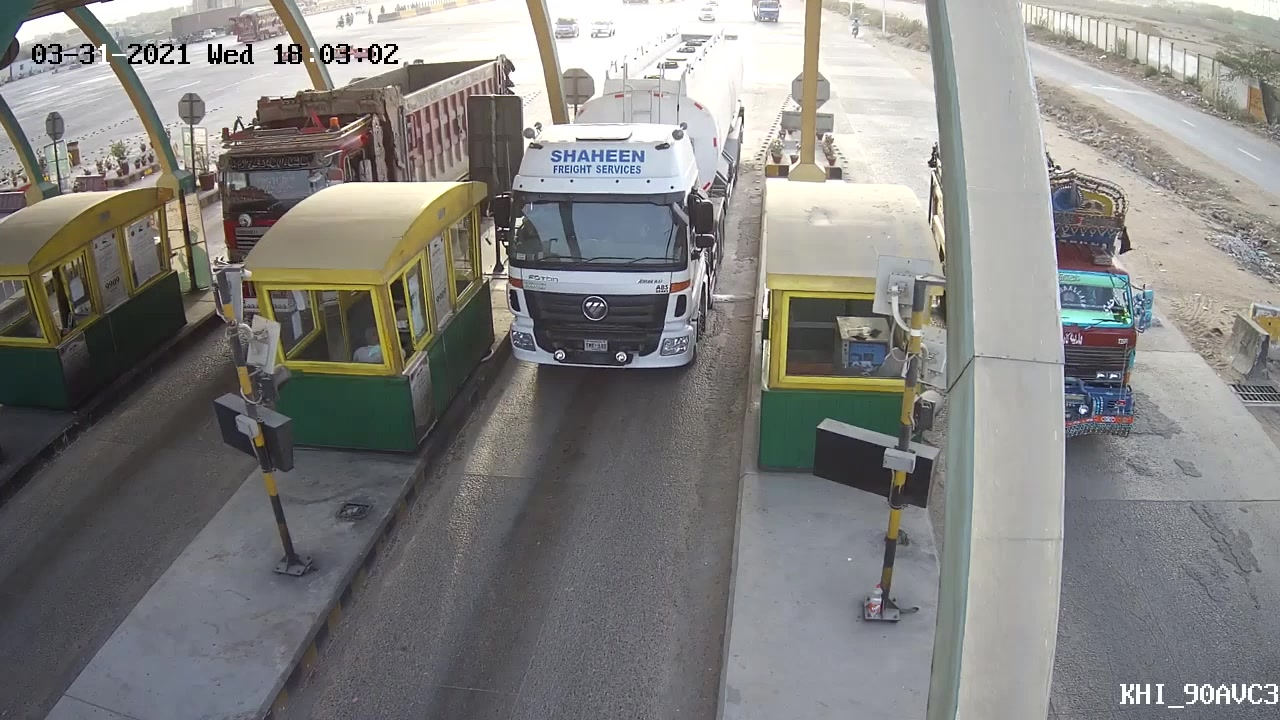F6: (481, 28, 755, 386)
